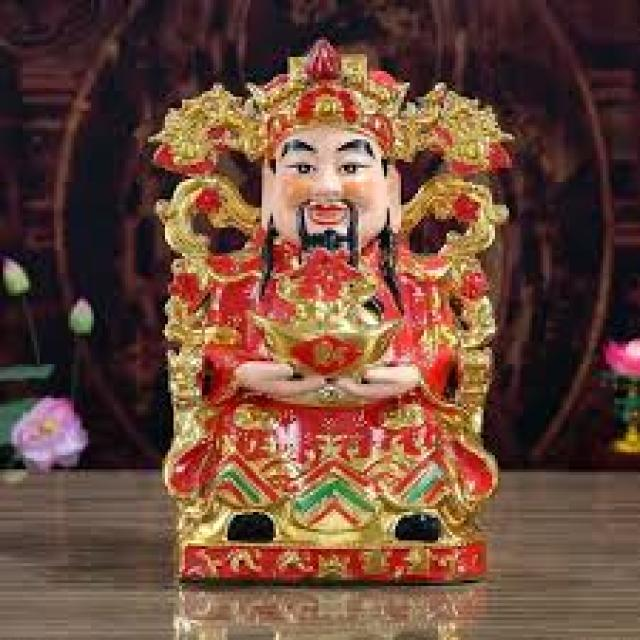Cai shen: (148, 49, 506, 598)
